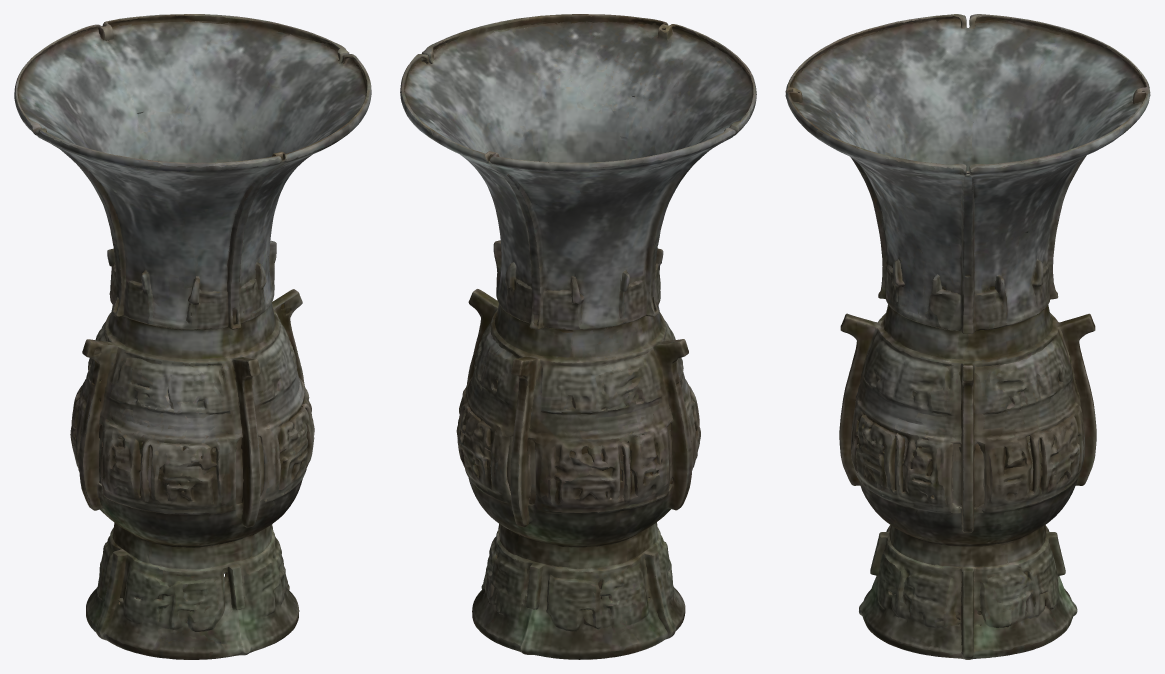
The model's file is tex_mesh.glb.
The picture shows the model from 3 angles, left to right: view 1: azimuth 30°, elevation 25°; view 2: azimuth 150°, elevation 25°; view 3: azimuth 270°, elevation 25°; orthographic projection.
Parts seen in each view (by area): view 1: world; view 2: world; view 3: world.
Part boxes in pixels (<box>): world: <box>14,14,371,659</box>; world: <box>400,14,756,659</box>; world: <box>785,14,1150,659</box>.
Size of the model in its own units: 0.327 by 0.52 by 0.3272.
1 material, 1 textured.
